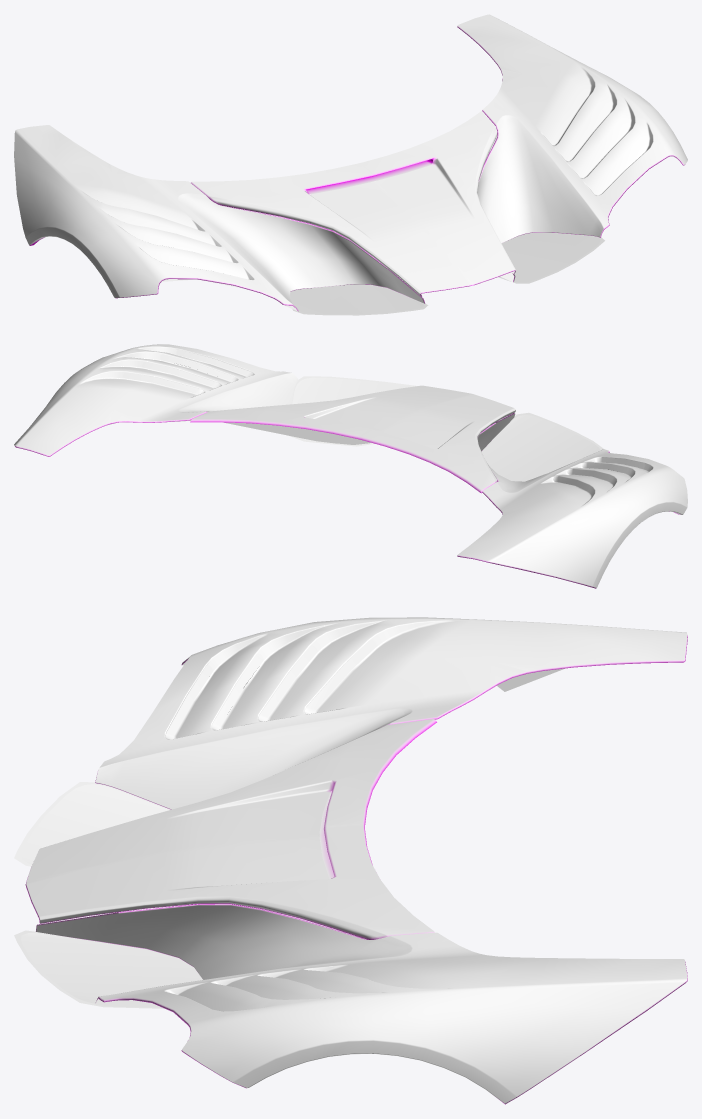
The model's file is Car_Ford_GT_2017_Hood_SetK.fbx.
The picture shows the model from 3 angles, top to bottom: view 1: azimuth 30°, elevation 25°; view 2: azimuth 150°, elevation 25°; view 3: azimuth 270°, elevation 25°; orthographic projection. The views are drawn at different scales.
Parts seen in each view (by area): view 1: Hood 6; view 2: Hood 6; view 3: Hood 6.
Part boxes in pixels (x1,y1,x2,y2): Hood 6: [14, 14, 687, 315]; Hood 6: [14, 344, 687, 588]; Hood 6: [14, 617, 687, 1104].
Size of the model in its own units: 1.96 by 0.2586 by 1.33.
